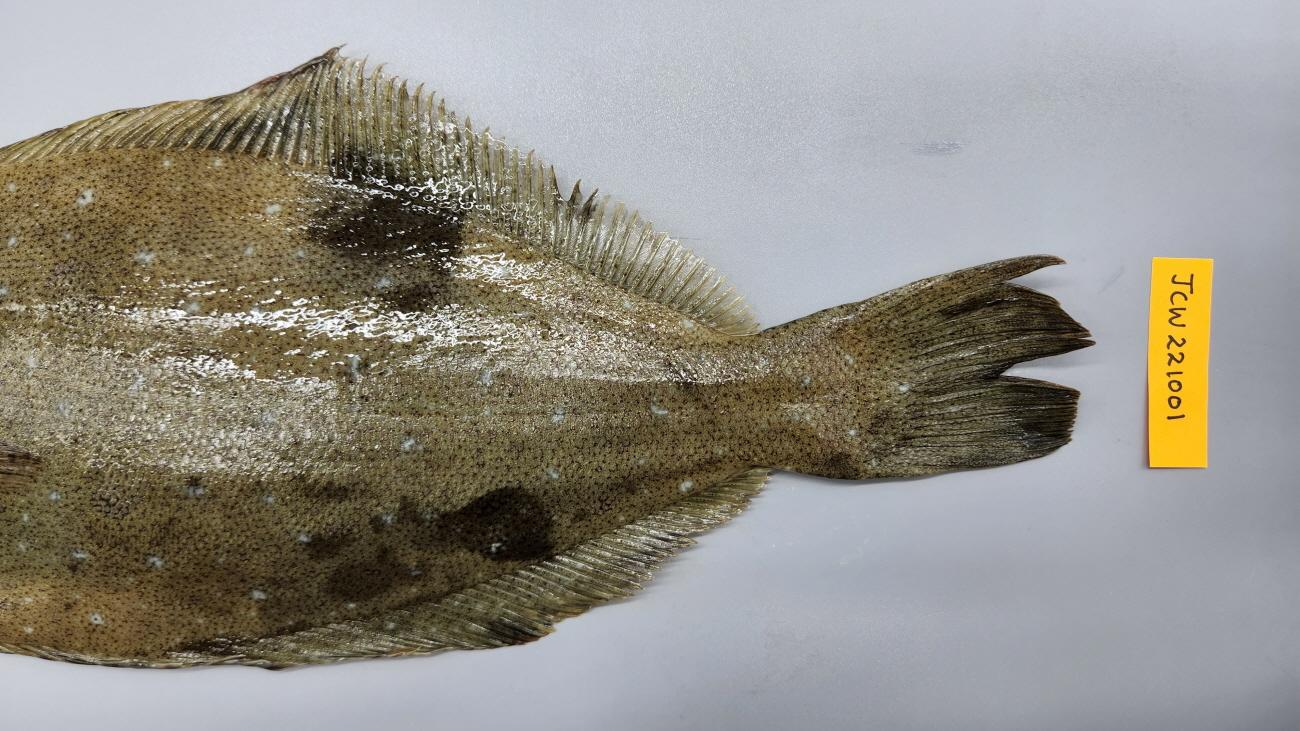POOUN: (0, 42, 1098, 671)
